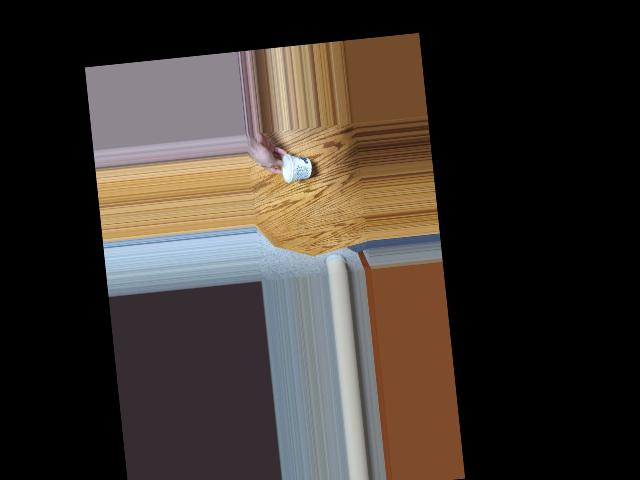cotage: (277, 152, 309, 177)
